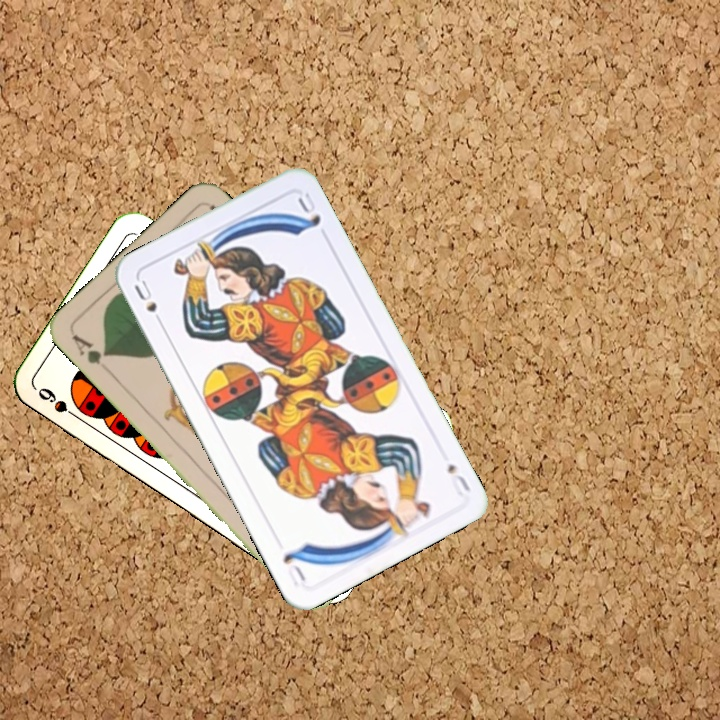GA: (67, 329, 114, 368)
S9: (34, 383, 85, 424)
SU: (130, 276, 167, 331), (443, 459, 473, 499)
